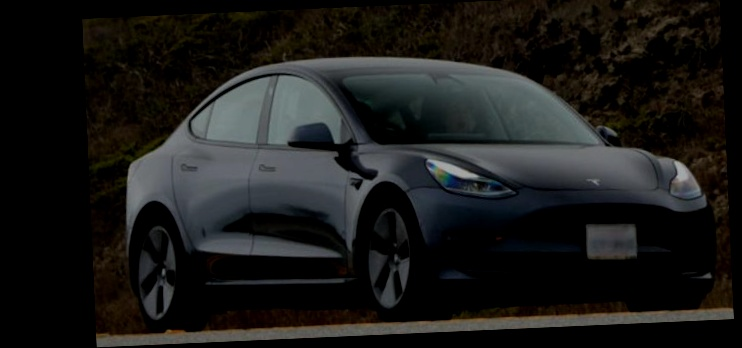car: (107, 33, 720, 340)
